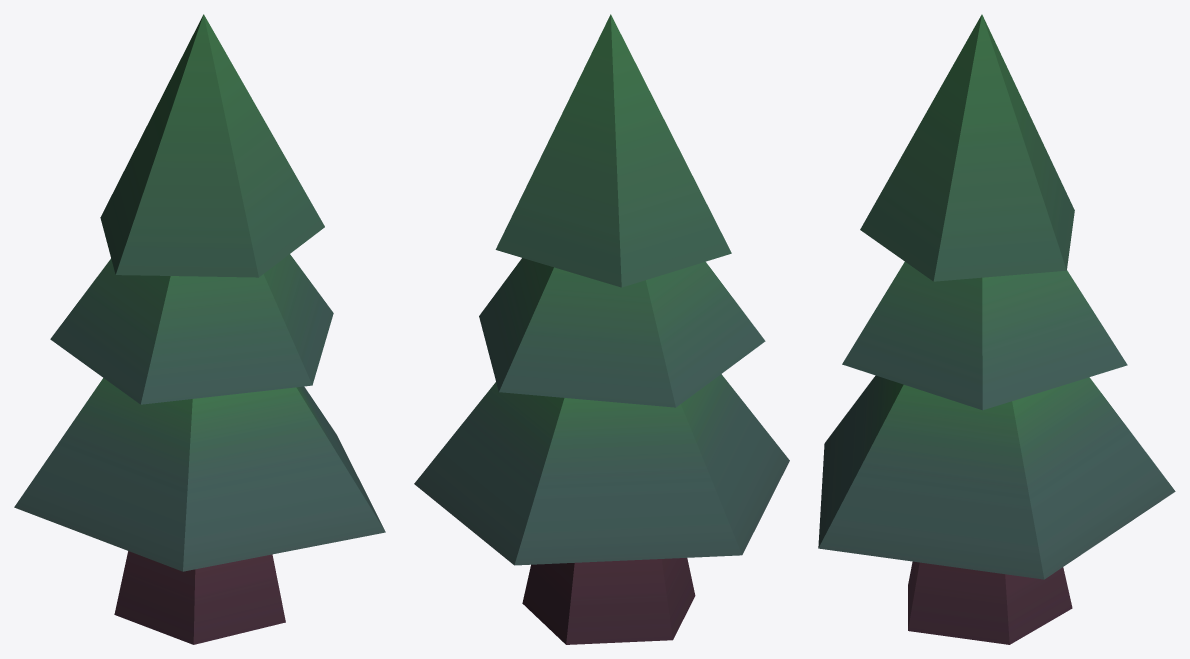
File: Tree_Pine.obj
3 renders of one model, left to right at view 1: azimuth 30°, elevation 25°; view 2: azimuth 150°, elevation 25°; view 3: azimuth 270°, elevation 25°, orthographic.
Visible parts, largest first — view 1: {mesh}Tree_Pine_Cone; view 2: {mesh}Tree_Pine_Cone; view 3: {mesh}Tree_Pine_Cone.
Boxes of the visible parts, x1,y1,x2,y2 form: {mesh}Tree_Pine_Cone: [14, 14, 385, 644]; {mesh}Tree_Pine_Cone: [414, 14, 789, 644]; {mesh}Tree_Pine_Cone: [818, 14, 1175, 644].
Size of the model in its own units: 84.77 by 148 by 80.61.
1 material, 1 textured.
